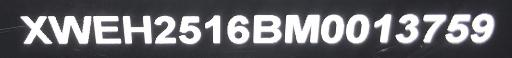letter: (46, 12, 92, 44), (280, 14, 320, 43), (18, 13, 52, 44), (118, 13, 152, 43), (419, 12, 449, 46), (390, 12, 420, 44), (344, 11, 372, 45), (91, 13, 121, 44), (250, 14, 282, 43), (316, 13, 346, 43), (150, 13, 180, 43), (444, 12, 472, 44), (470, 13, 498, 45), (222, 14, 250, 44), (368, 13, 394, 45), (176, 14, 202, 44), (198, 14, 224, 44)
